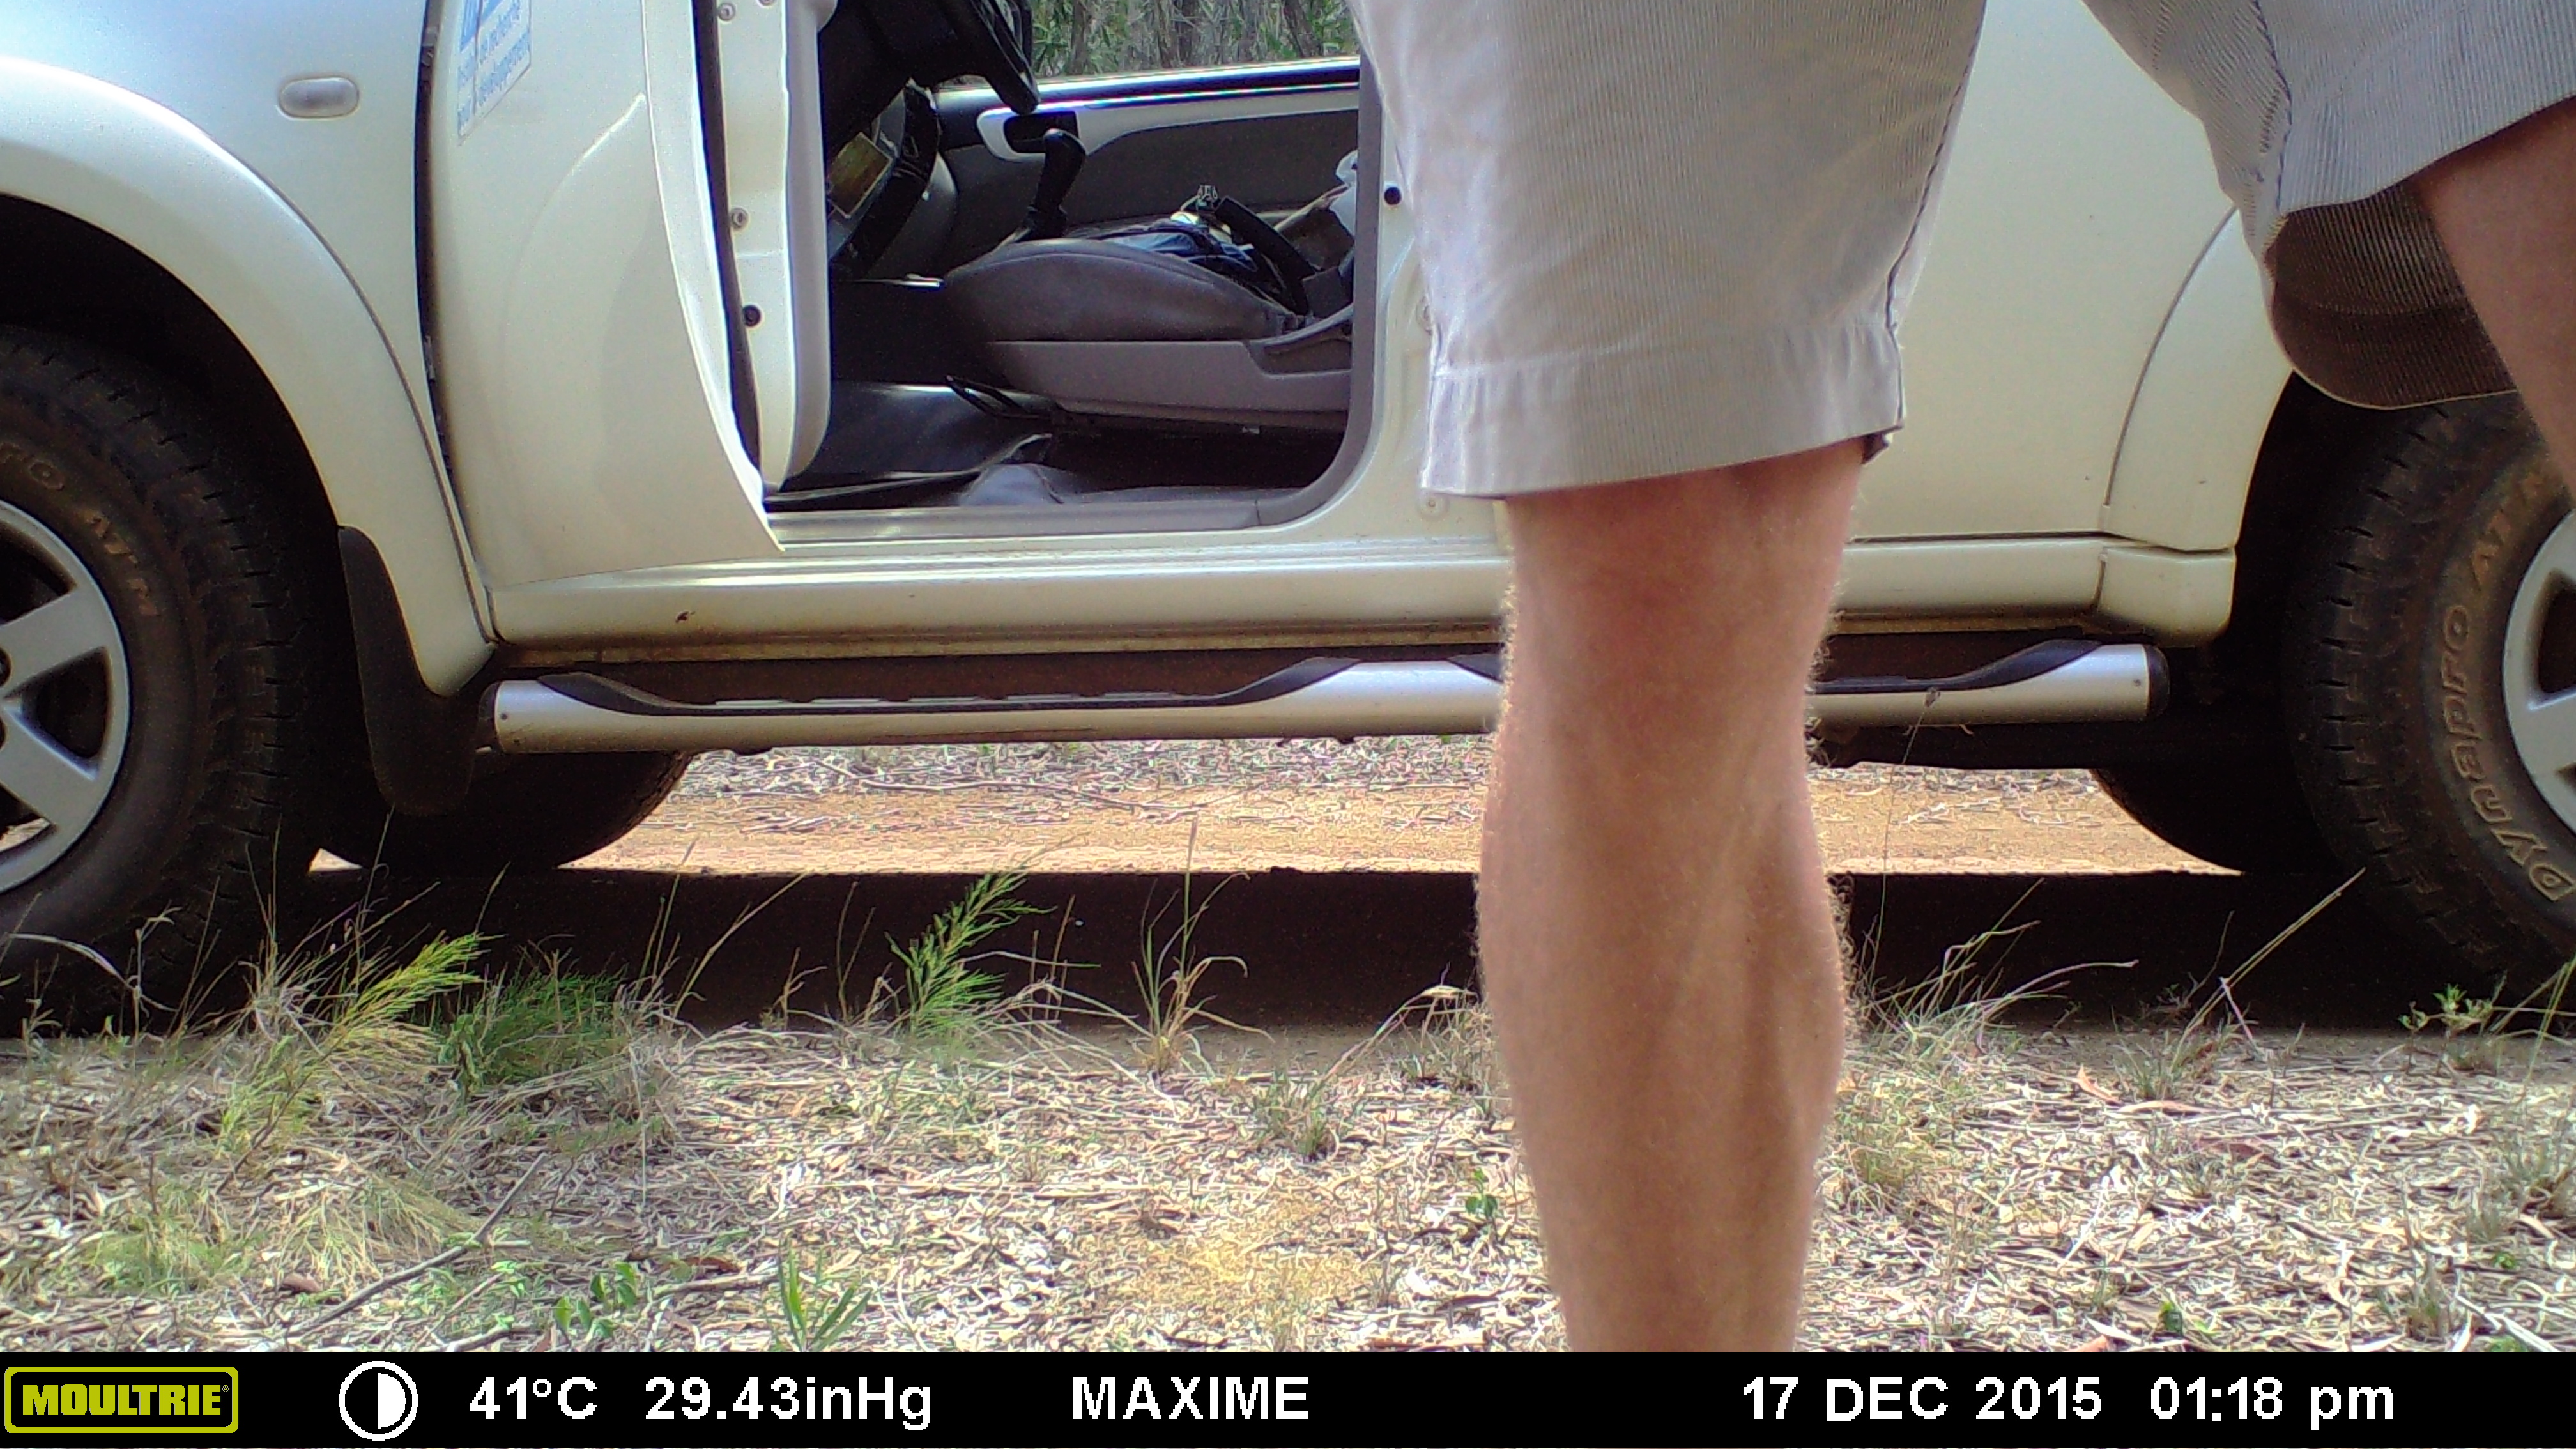Car: (2, 5, 2574, 1040)
